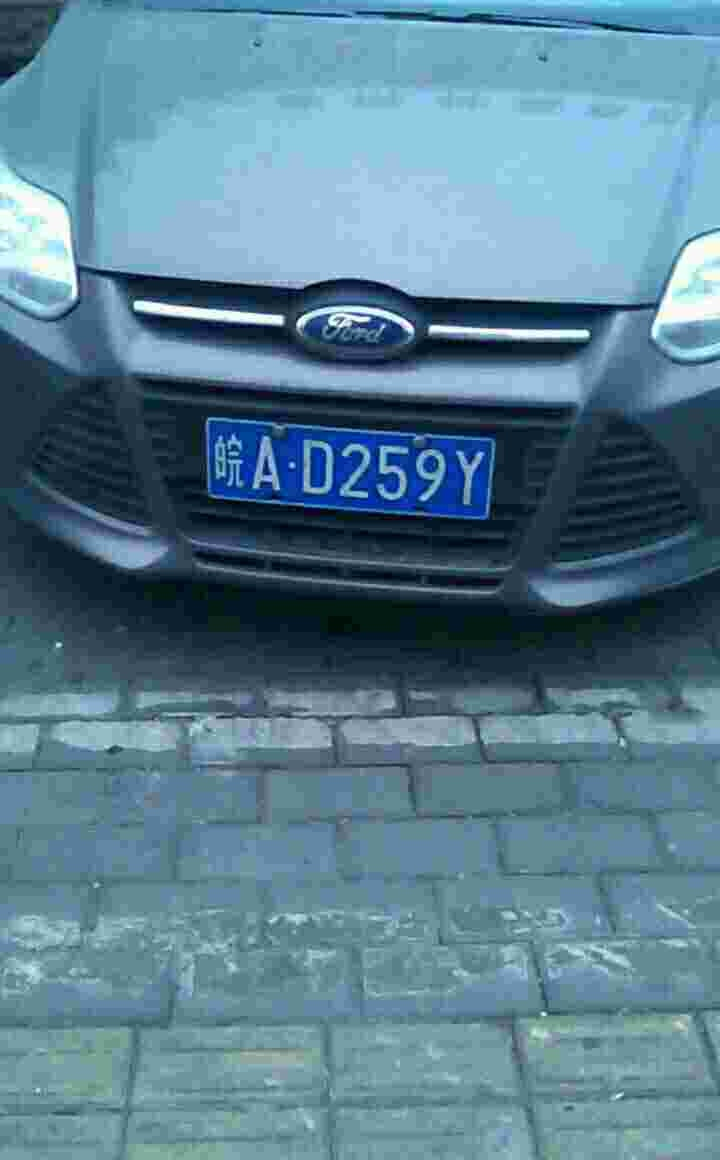license_plate: (202, 420, 501, 524)
